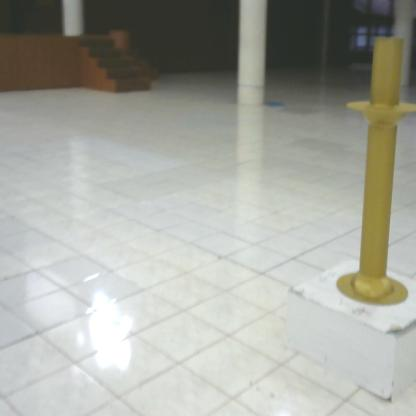pole: (344, 27, 416, 315)
